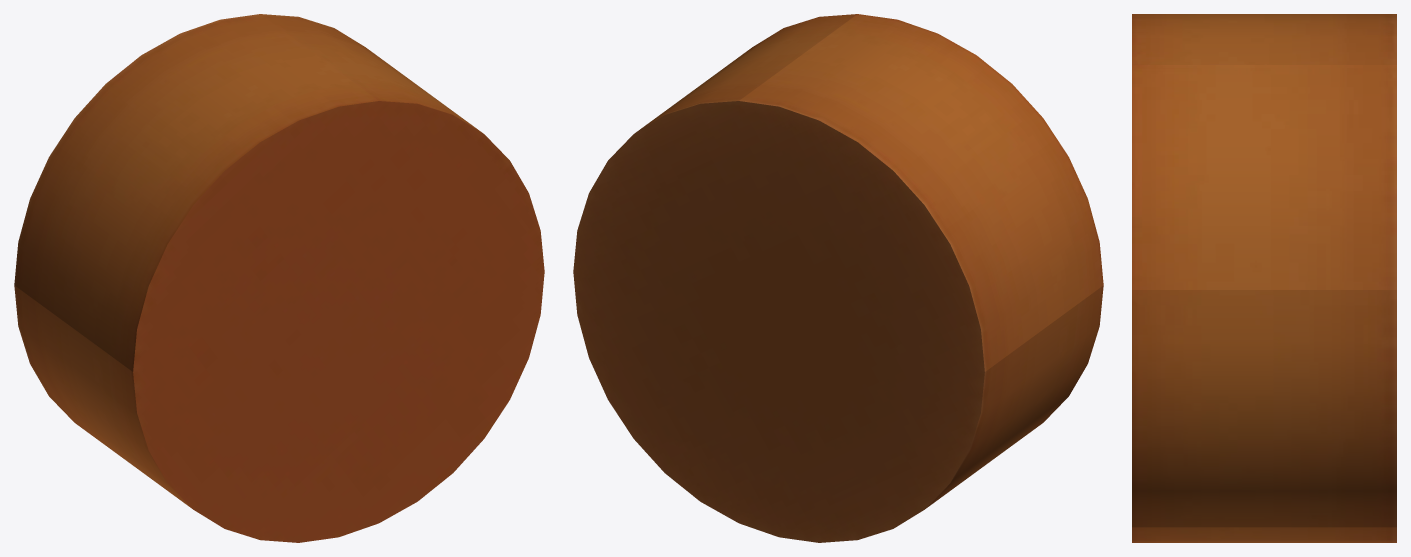
Rendered from pedestal__pedestal_stem.glb.
The picture shows the model from 3 angles, left to right: view 1: azimuth 30°, elevation 25°; view 2: azimuth 150°, elevation 25°; view 3: azimuth 270°, elevation 25°; orthographic projection. The views are drawn at different scales.
Visible parts, largest first — view 1: geometry_0; view 2: geometry_0; view 3: geometry_0.
Part boxes in pixels (x1,y1,x2,y2): geometry_0: [14, 14, 544, 542]; geometry_0: [573, 14, 1103, 542]; geometry_0: [1132, 14, 1396, 542].
Size of the model in its own units: 0.056 by 0.056 by 0.028.
Materials: 1 (1 with a texture image).
